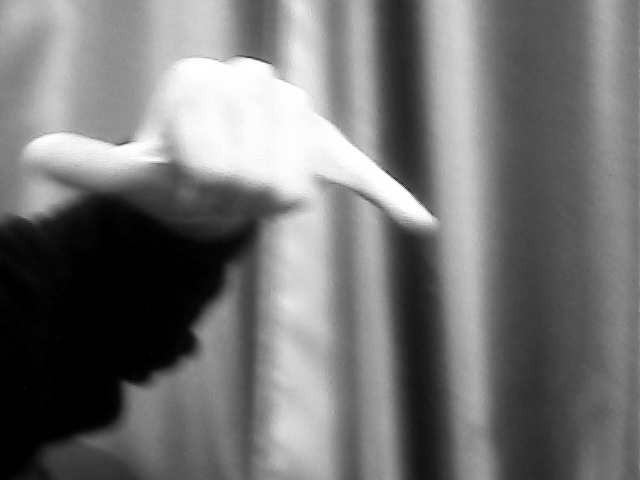aloha: (19, 48, 441, 247)
